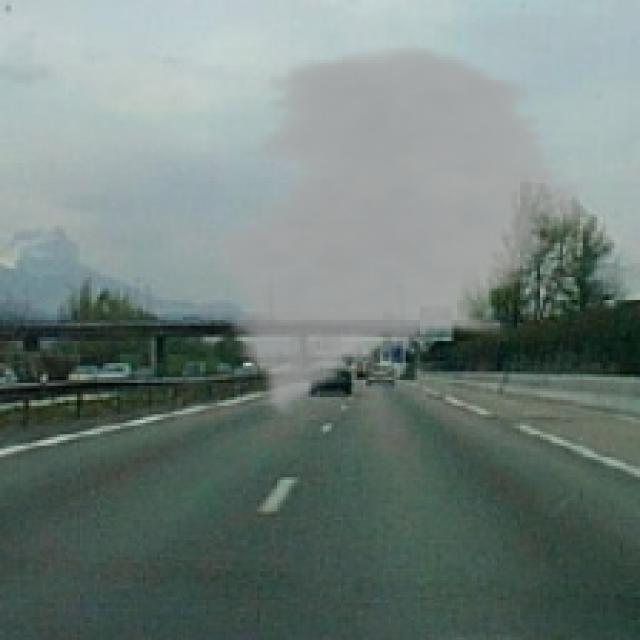Smoke: (200, 40, 594, 417)
